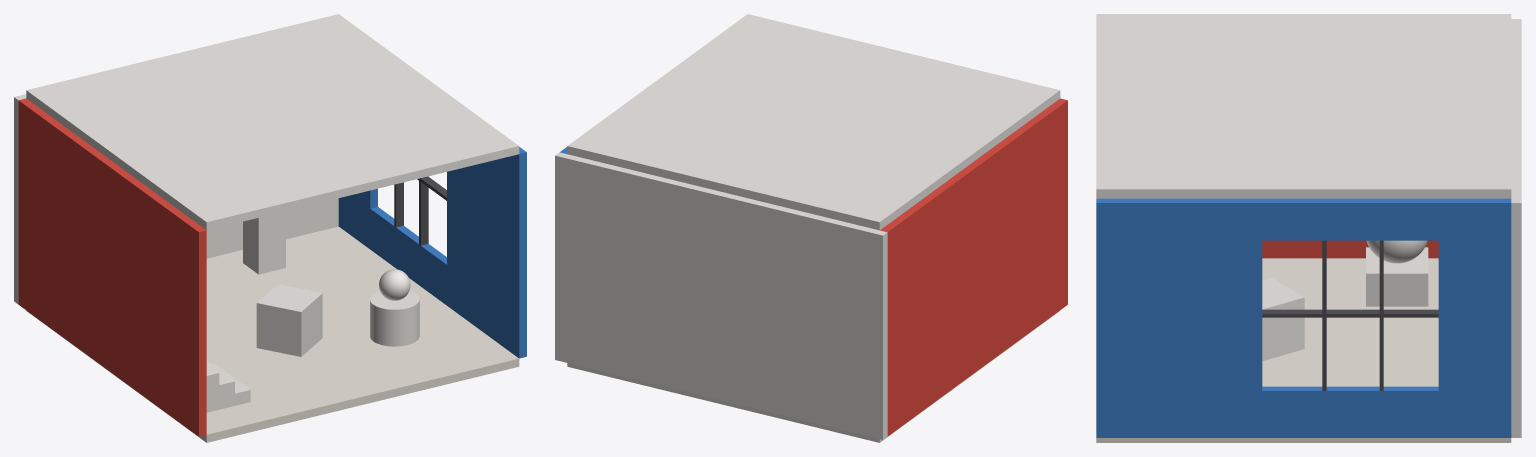
File: room.gltf
The picture shows the model from 3 angles, left to right: view 1: azimuth 30°, elevation 25°; view 2: azimuth 150°, elevation 25°; view 3: azimuth 270°, elevation 25°; orthographic projection. The views are drawn at different scales.
Parts seen in each view (by area): view 1: room; view 2: room; view 3: room.
Boxes of the visible parts, x1,y1,x2,y2 form: room: [14, 14, 526, 442]; room: [555, 14, 1067, 442]; room: [1096, 14, 1521, 442].
Size of the model in its own units: 8.4 by 5.4 by 8.2.
